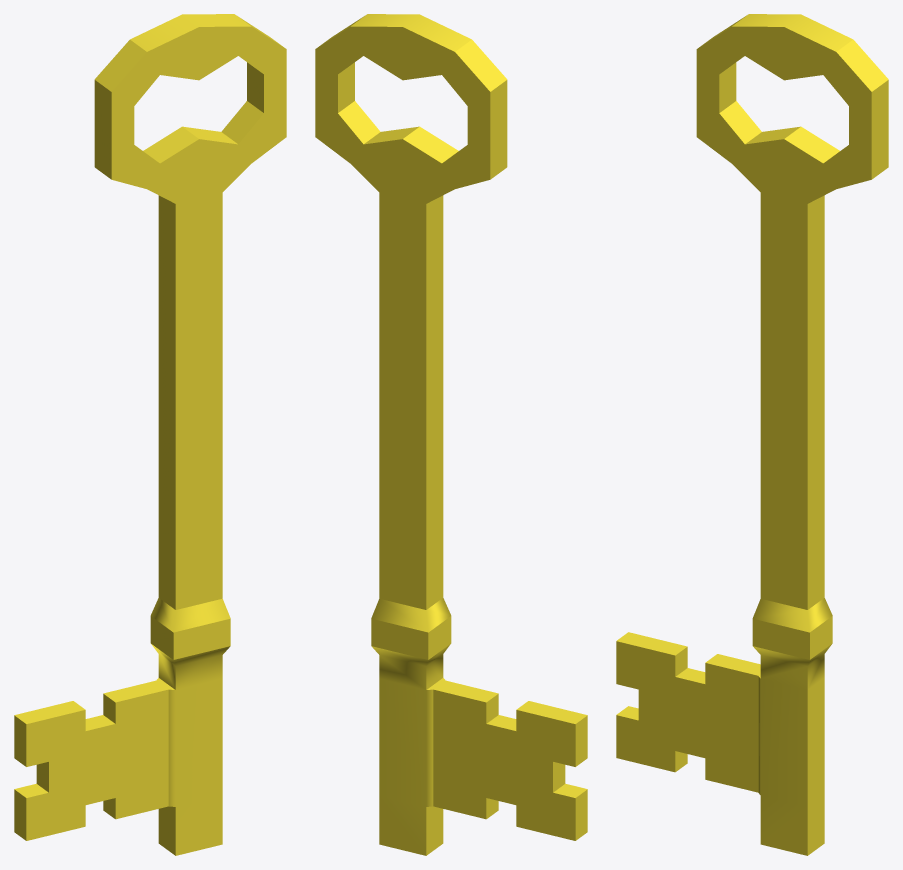
Rendered from 0J_HflIStKl.glb.
3 views of the same model, side by side, from view 1: azimuth 30°, elevation 25°; view 2: azimuth 150°, elevation 25°; view 3: azimuth 330°, elevation 25° (orthographic).
Parts seen in each view (by area): view 1: pCube21; view 2: pCube21; view 3: pCube21.
Part boxes in pixels (x1,y1,x2,y2): pCube21: (14,14,286,855); pCube21: (315,14,587,855); pCube21: (616,14,888,855).
Size of the model in its own units: 0.3279 by 1 by 0.0505.
